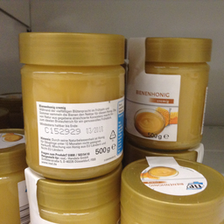honey: (16, 31, 128, 180), (126, 37, 216, 156)
